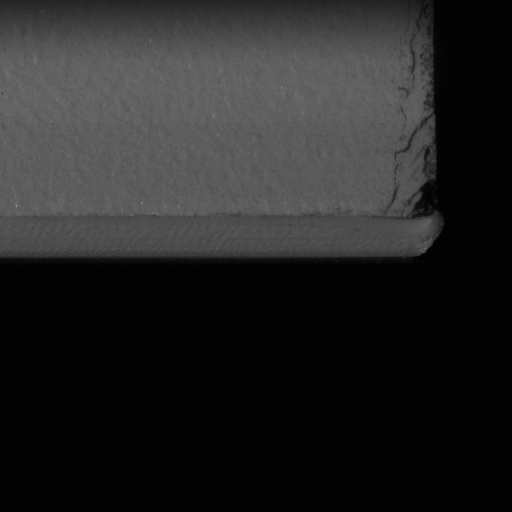bengque: (406, 182, 444, 225)
